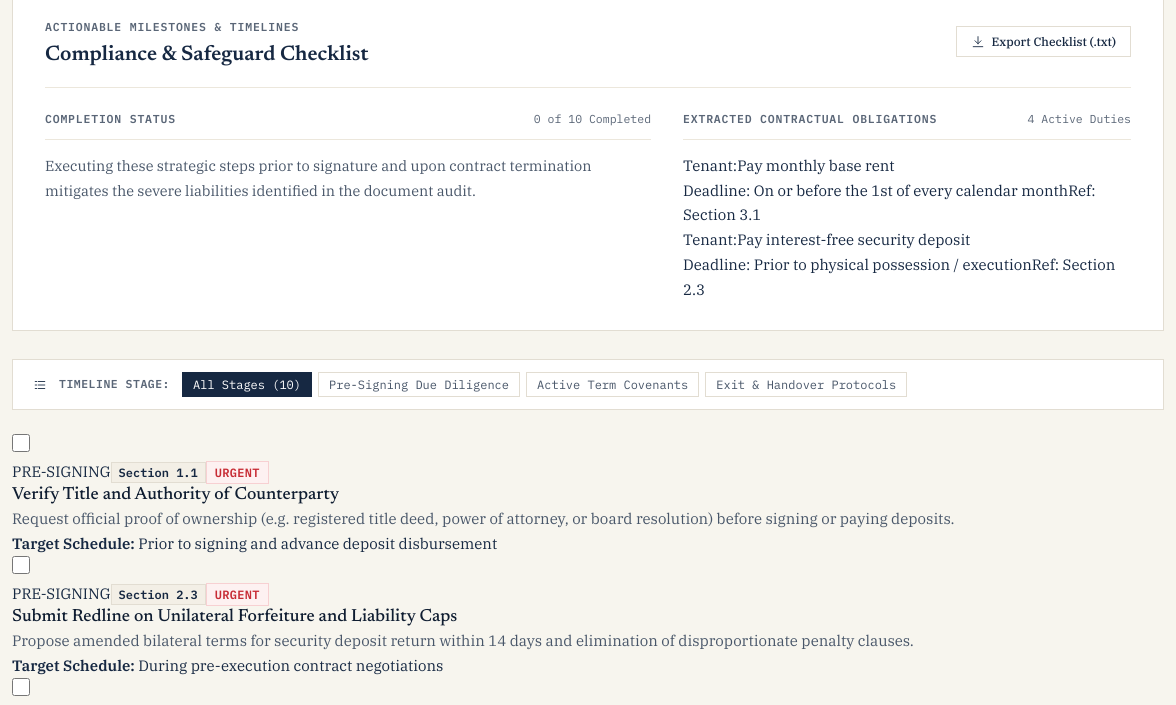
Test: ActionChecklist › filters by stage, tracks progress, and adds a custom milestone
The image size is (1176, 705).
Step 1. Click the checkbox named "Mark Verify Title and Authority of Counterparty as completed" → (21, 444), box left=12, top=434, right=30, bottom=452
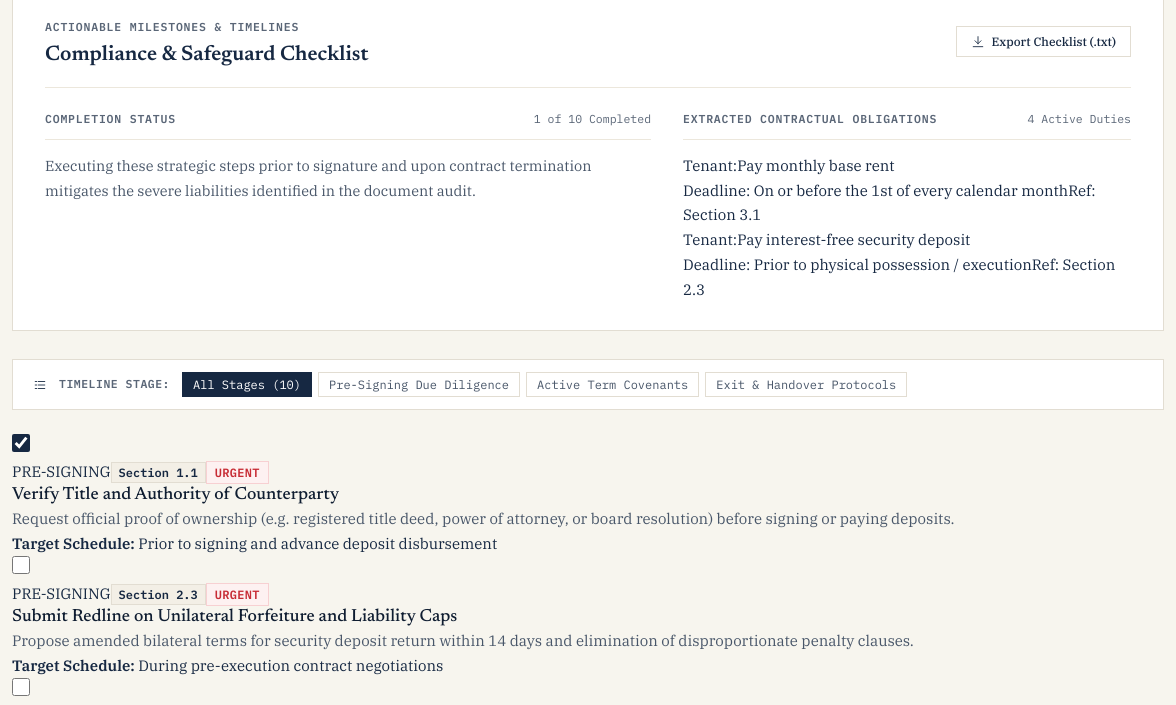
Step 2. Click the button "Exit & Handover Protocols" → (806, 385), box left=705, top=372, right=907, bottom=398
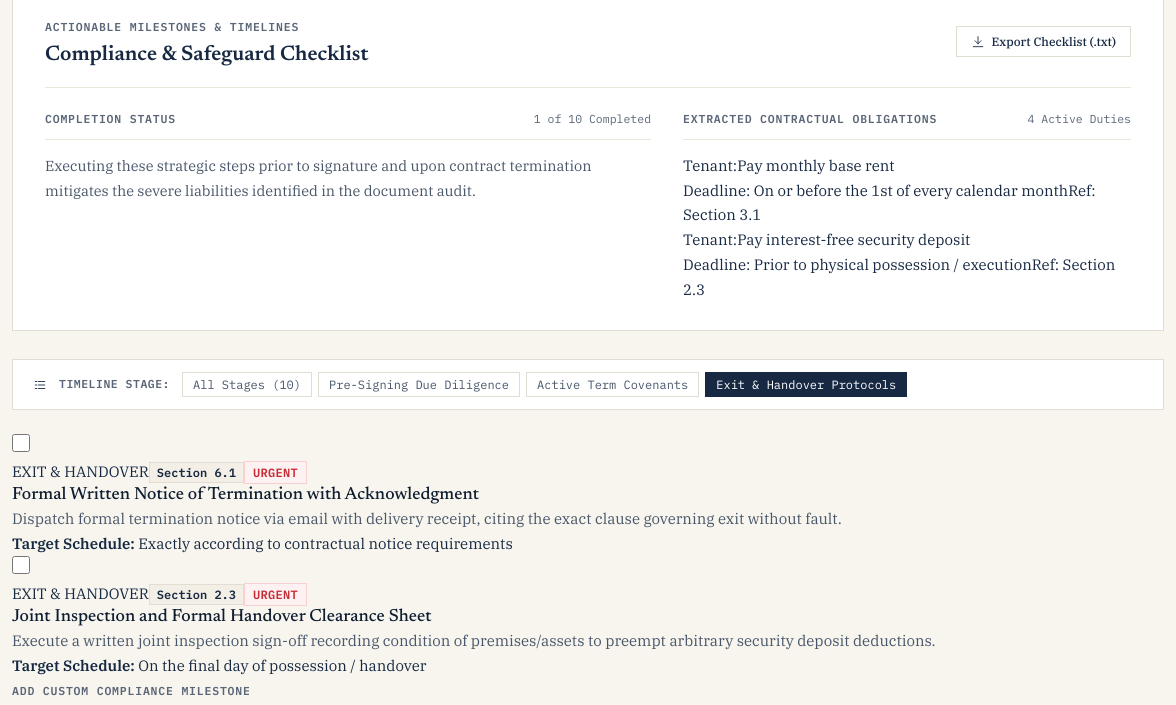
Expected: the heading "Verify Title and Authority of Counterparty" is gone
Step 3. Click the button "All Stages (10)" → (247, 385), box left=182, top=372, right=312, bottom=398
(page scrolled)
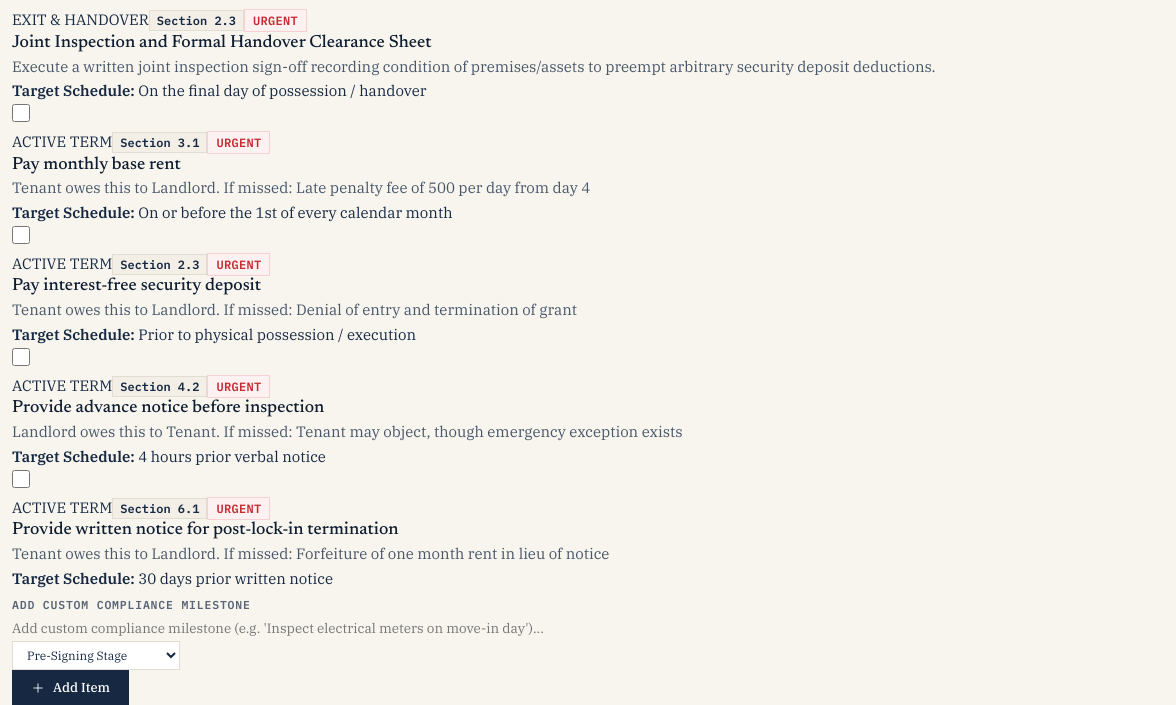
Step 4. Replace the text in the field named "Custom milestone description" with "Photograph meter readings" → (588, 628), box left=12, top=619, right=1164, bottom=637
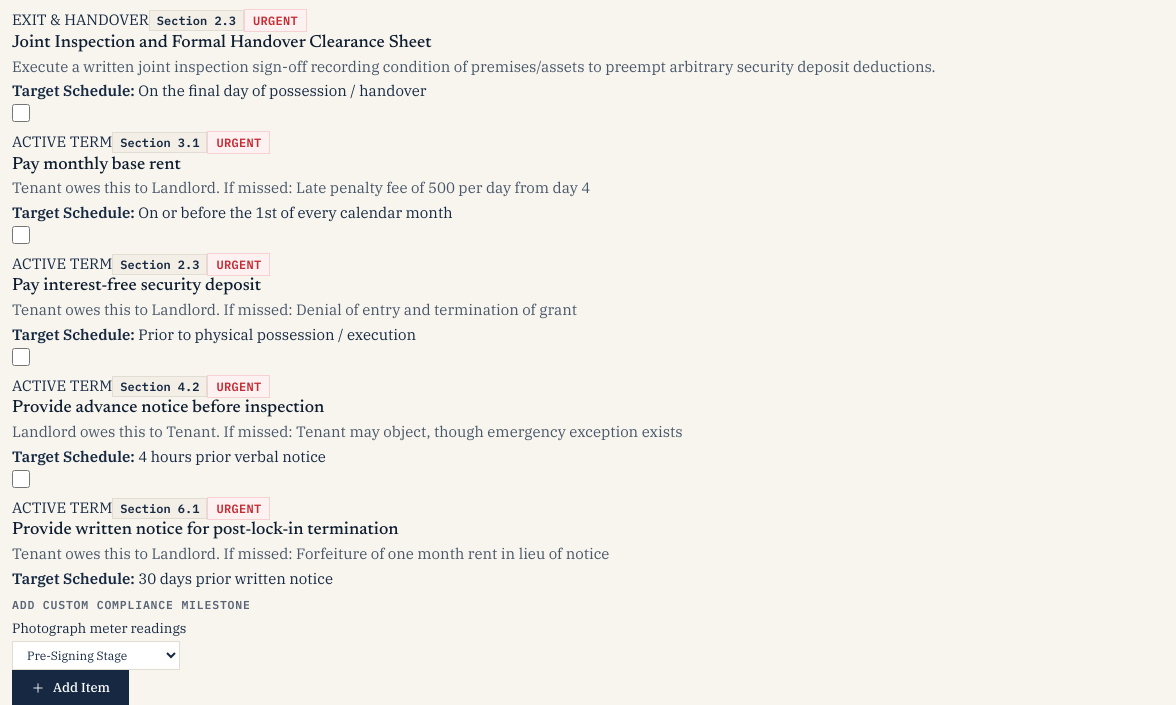
Step 5. Select "Exit & Handover Stage" in the dropdown named "Milestone stage" → (96, 656), box left=12, top=641, right=180, bottom=670
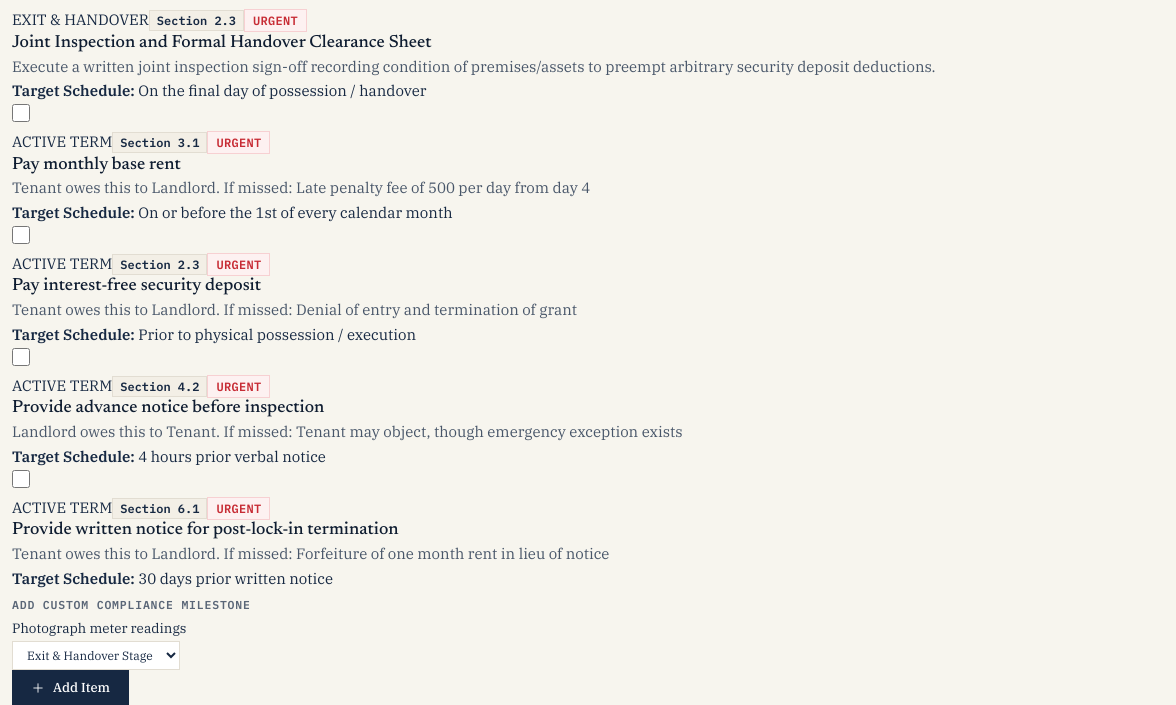
Step 6. Click the button "Add Item" → (70, 688), box left=12, top=670, right=129, bottom=704
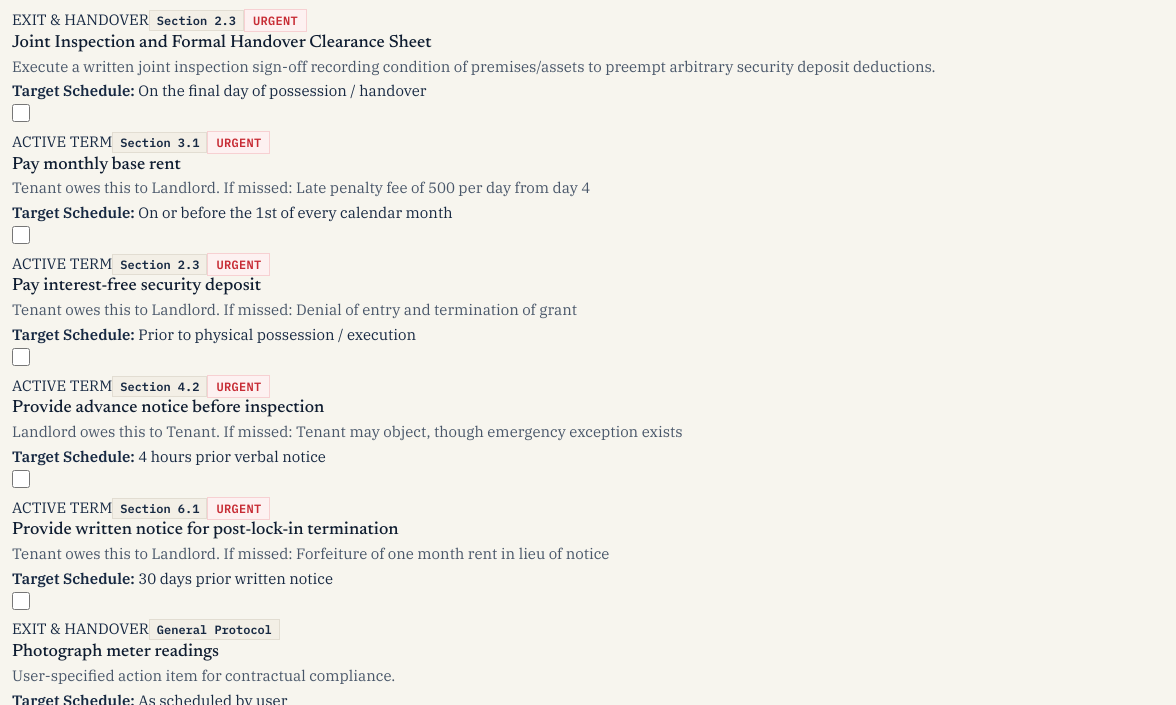
Expected: the heading "Photograph meter readings" is shown, left=12, top=643, right=219, bottom=661
